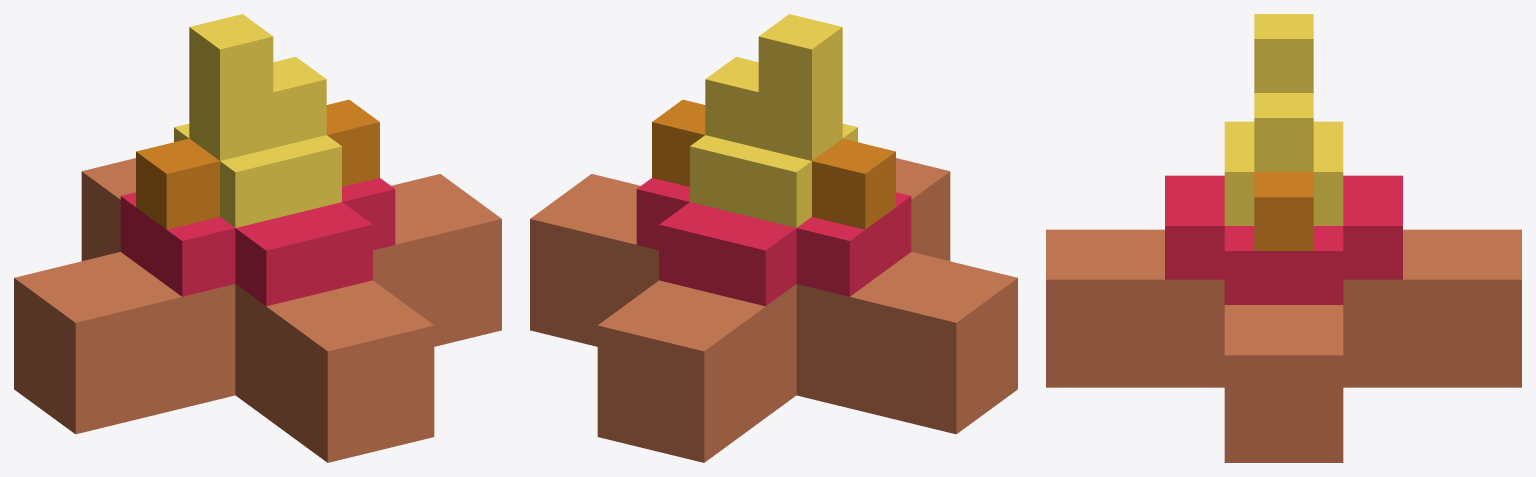
The model's file is campfire.obj.
3 renders of one model, left to right at view 1: azimuth 30°, elevation 25°; view 2: azimuth 150°, elevation 25°; view 3: azimuth 270°, elevation 25°, orthographic. The views are drawn at different scales.
Bounding box in the file's own units: 8 × 6 × 8.
1 material, 1 textured.
